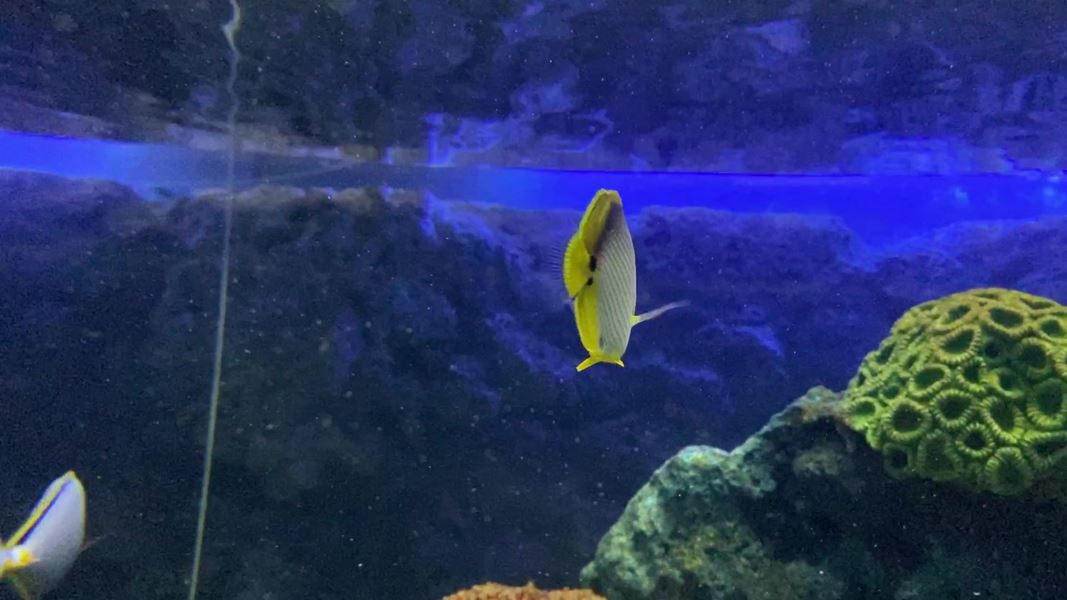Black-backed butterflyfish: (524, 178, 702, 386)
